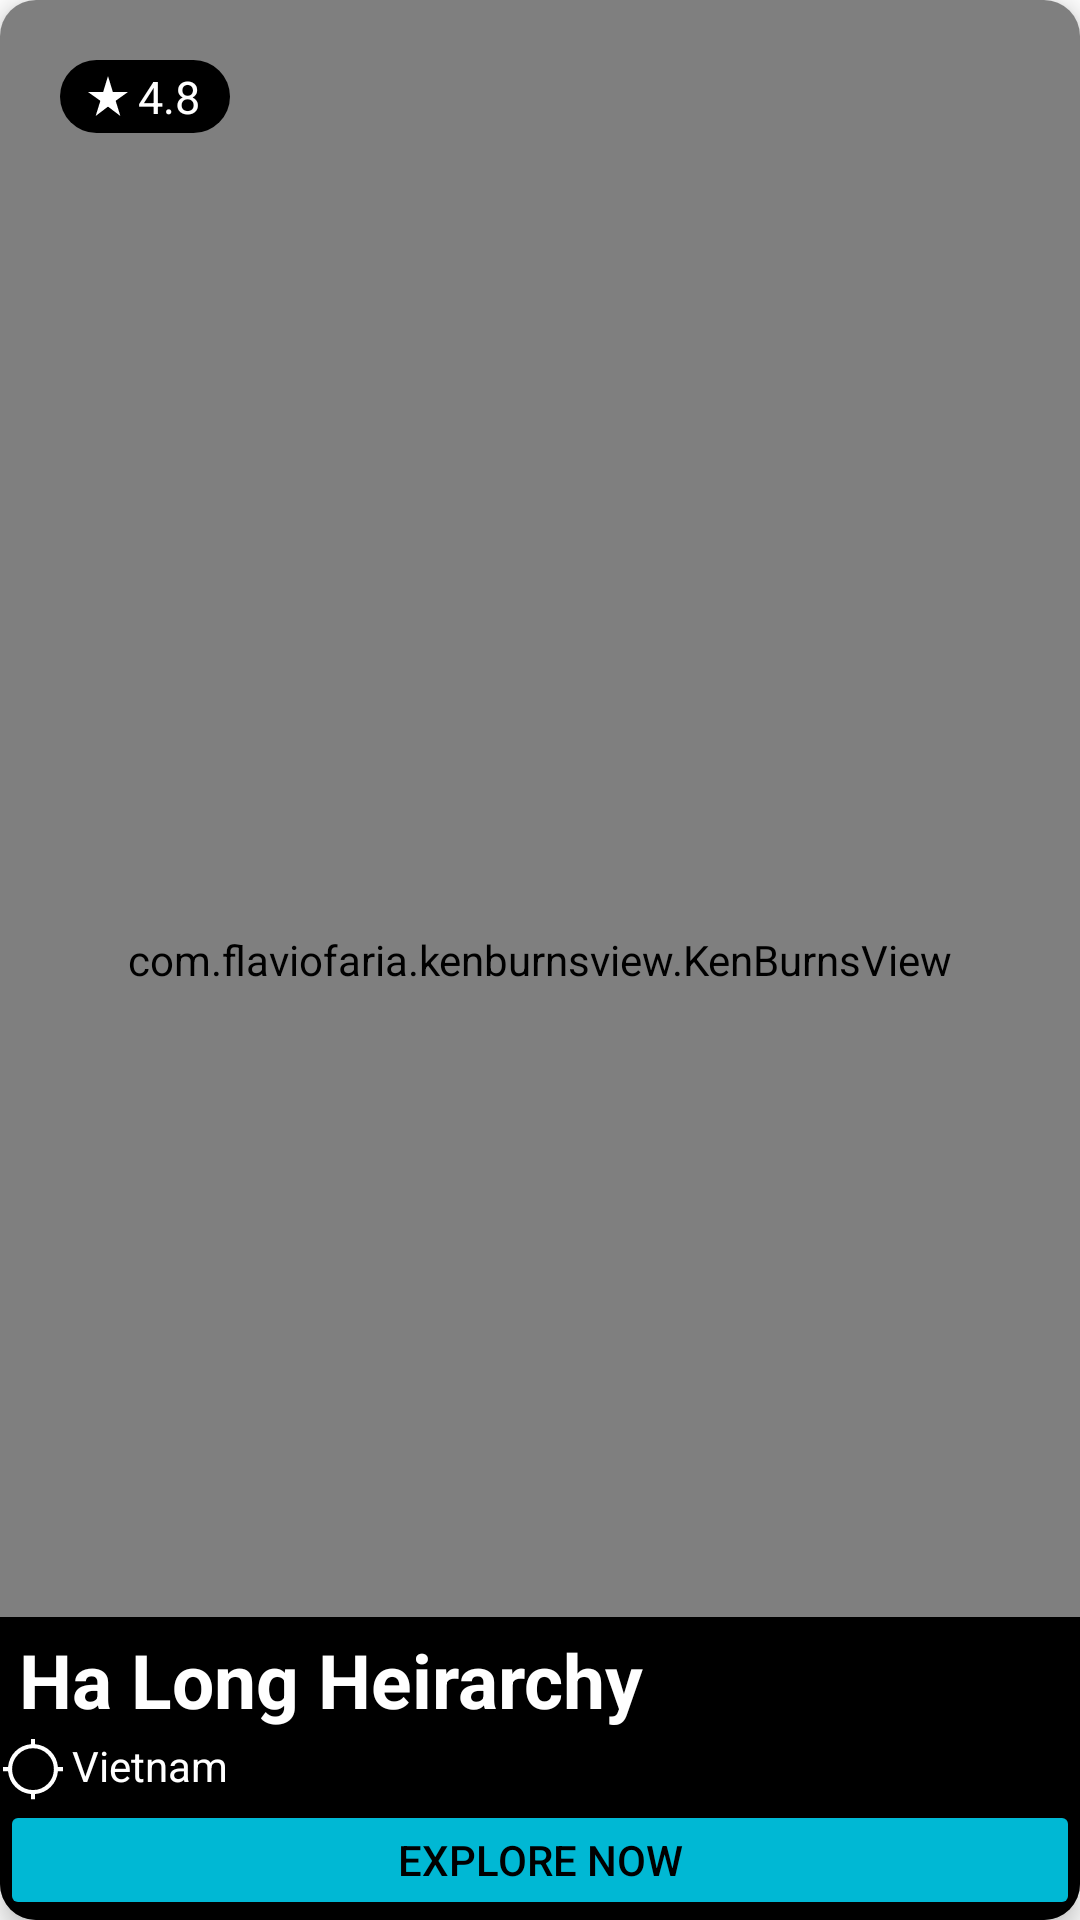

Point at icon controls on the screen. Image size 1080px×1920px, points as (x,y).
starrate: (108,96)
